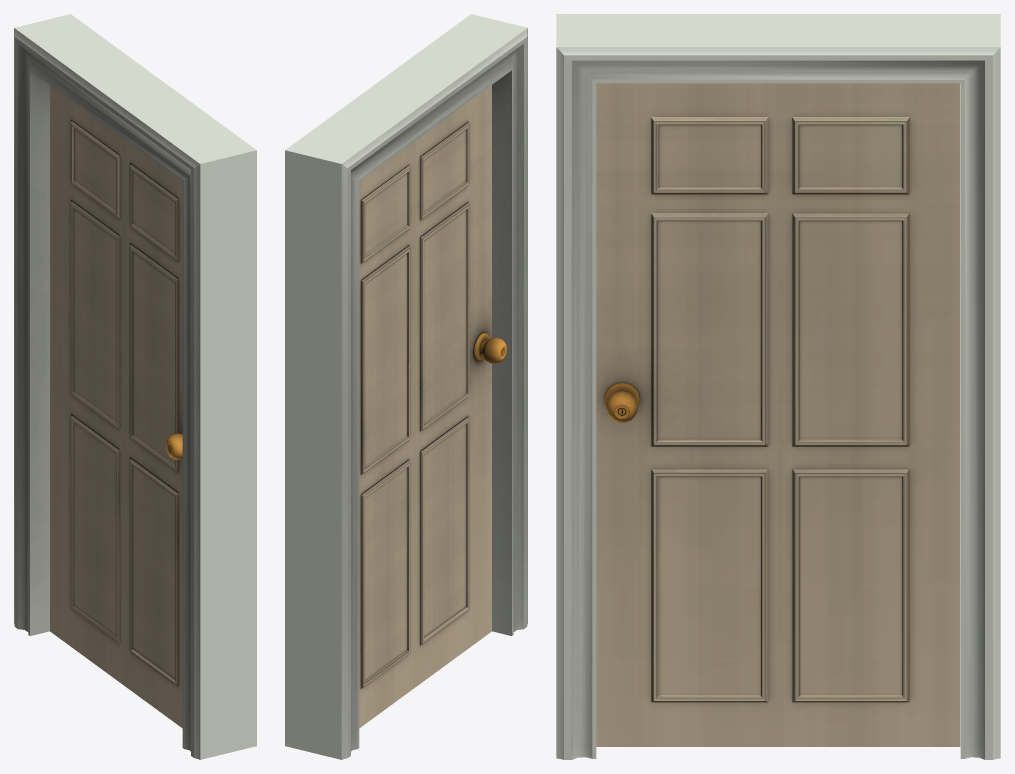
The model's file is doorway.fbx.
The picture shows the model from 3 angles, left to right: view 1: azimuth 30°, elevation 25°; view 2: azimuth 150°, elevation 25°; view 3: azimuth 270°, elevation 25°; orthographic projection. The views are drawn at different scales.
Parts seen in each view (by area): view 1: doorFrame, door2; view 2: doorFrame, door2; view 3: door2, doorFrame.
Part boxes in pixels (x1=…): doorFrame: x1=14, y1=14, x2=256, y2=759; door2: x1=50, y1=85, x2=182, y2=728; doorFrame: x1=285, y1=14, x2=527, y2=759; door2: x1=359, y1=85, x2=507, y2=728; door2: x1=596, y1=83, x2=960, y2=746; doorFrame: x1=556, y1=14, x2=1000, y2=759.
Size of the model in its own units: 55.78 by 505 by 286.
1 material, 1 textured.
